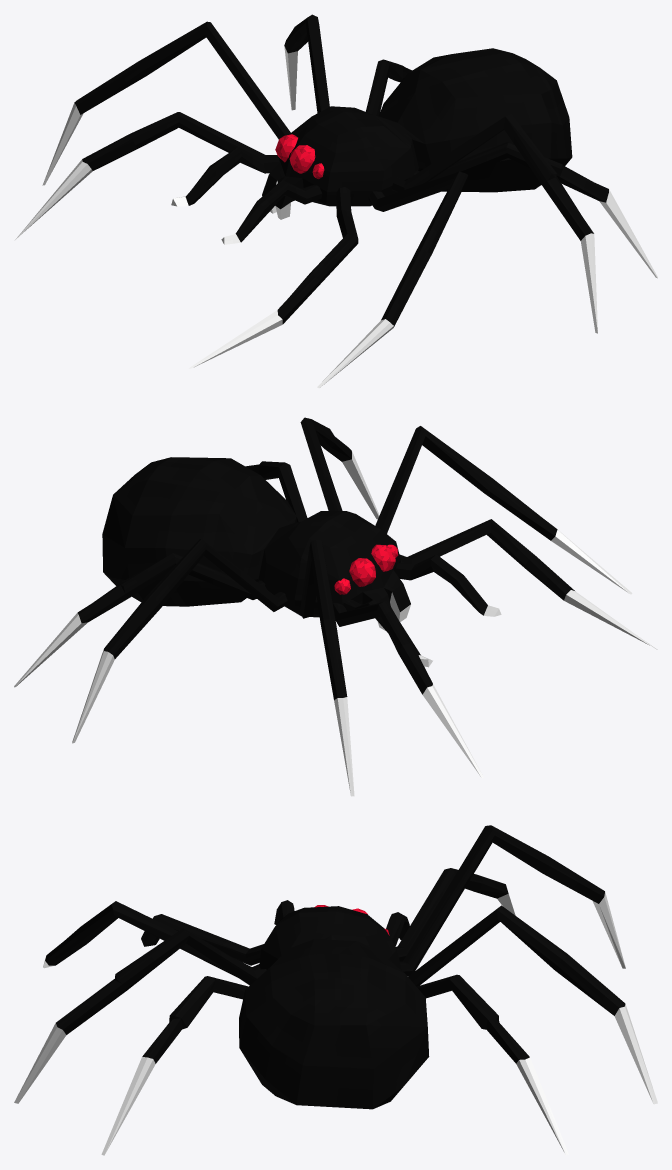
File: spiderIdle9.obj
The picture shows the model from 3 angles, top to bottom: view 1: azimuth 30°, elevation 25°; view 2: azimuth 150°, elevation 25°; view 3: azimuth 270°, elevation 25°; orthographic projection. The views are drawn at different scales.
Parts seen in each view (by area): view 1: Cube.003_Cube.004; view 2: Cube.003_Cube.004; view 3: Cube.003_Cube.004.
Boxes of the visible parts, x1,y1,x2,y2 form: Cube.003_Cube.004: (14, 14, 657, 388); Cube.003_Cube.004: (14, 417, 657, 796); Cube.003_Cube.004: (14, 825, 657, 1155).
Size of the model in its own units: 29.37 by 11.5 by 34.52.
